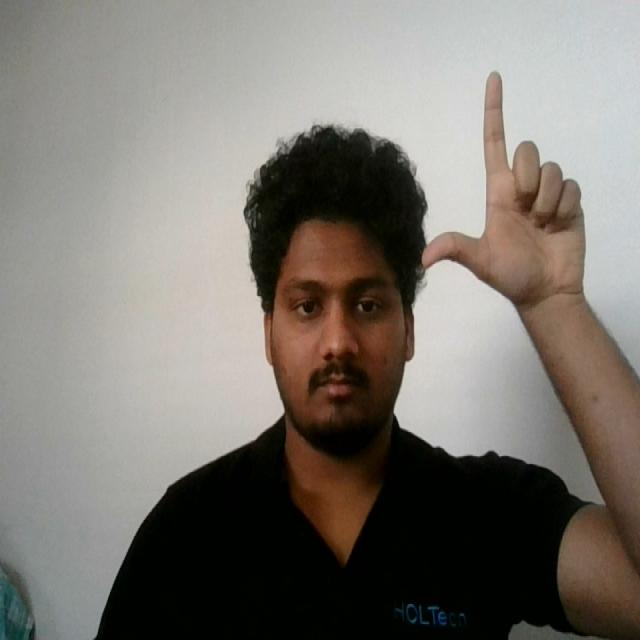IloveYou: (413, 65, 595, 318)
